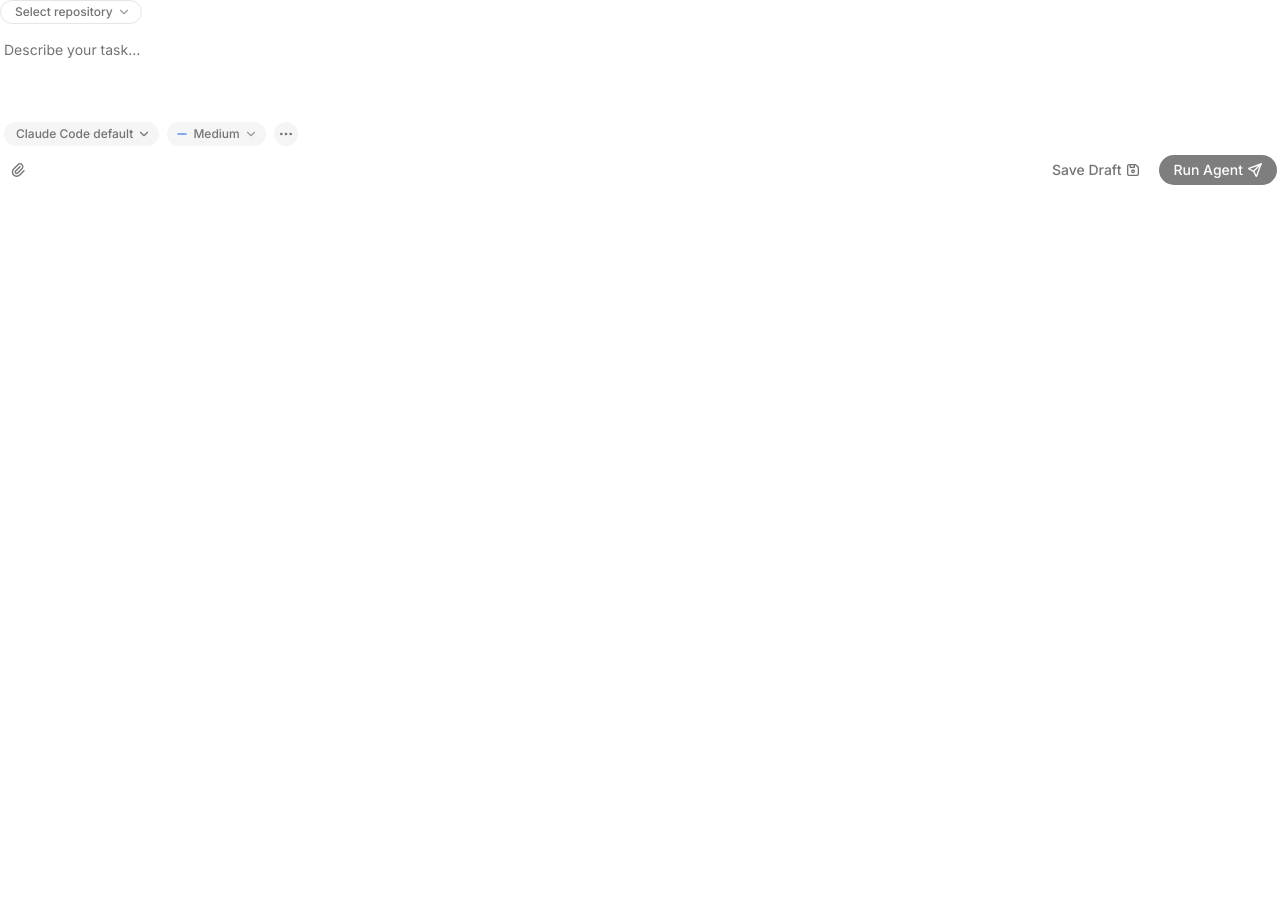
Test case: IssueCreateForm › filters the label picker by search
The width and height of the screenshot is (1280, 900).
Click the button named "More options": x=286, y=134 [274, 122, 298, 146]
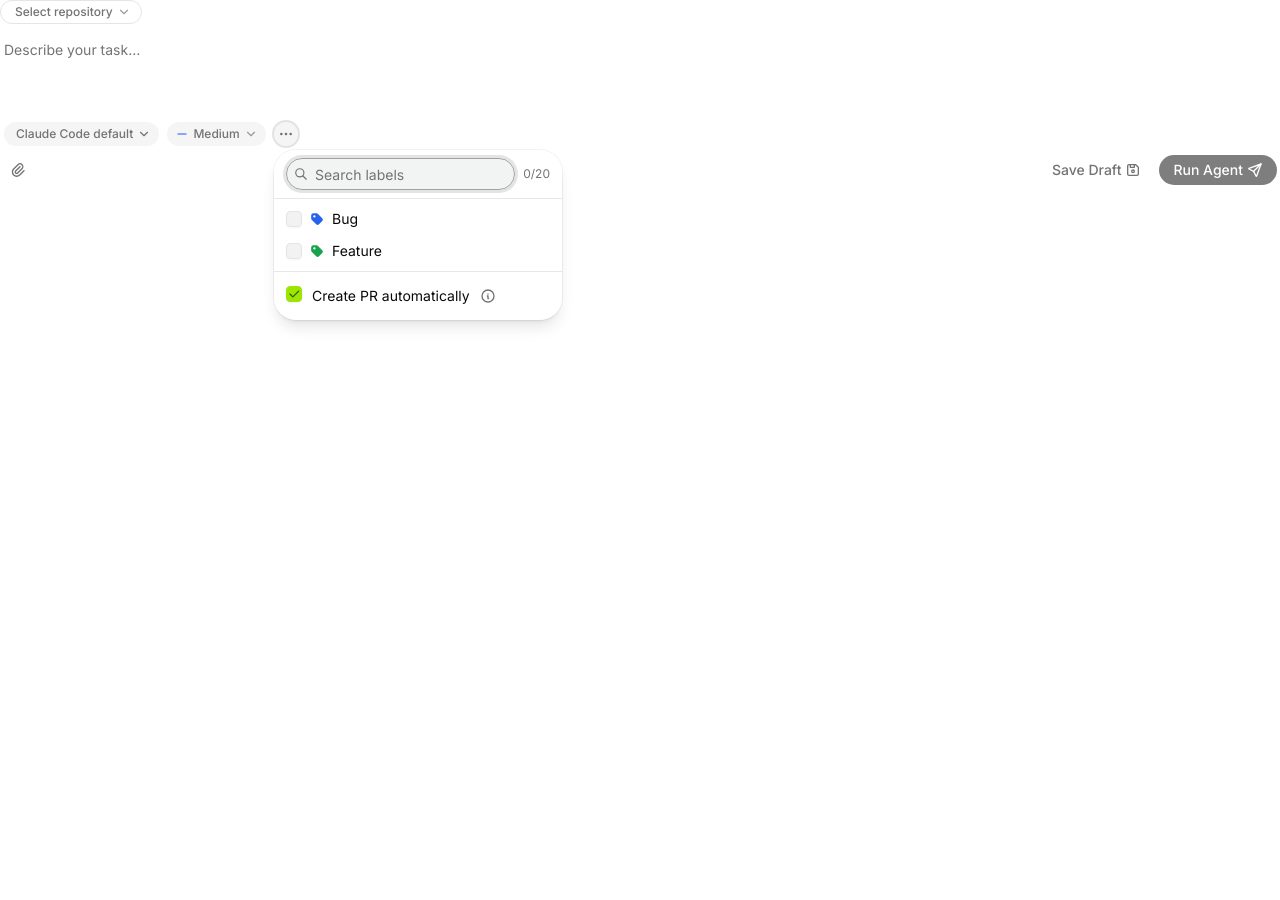
Check: the checkbox named "Bug" next to "Bug" is shown, box [286, 211, 302, 227]
Check: the checkbox named "Feature" next to "Feature" is shown, box [286, 243, 302, 259]
In the field with placeholder "Search labels": x=401, y=174 [286, 158, 515, 190], type "bu"
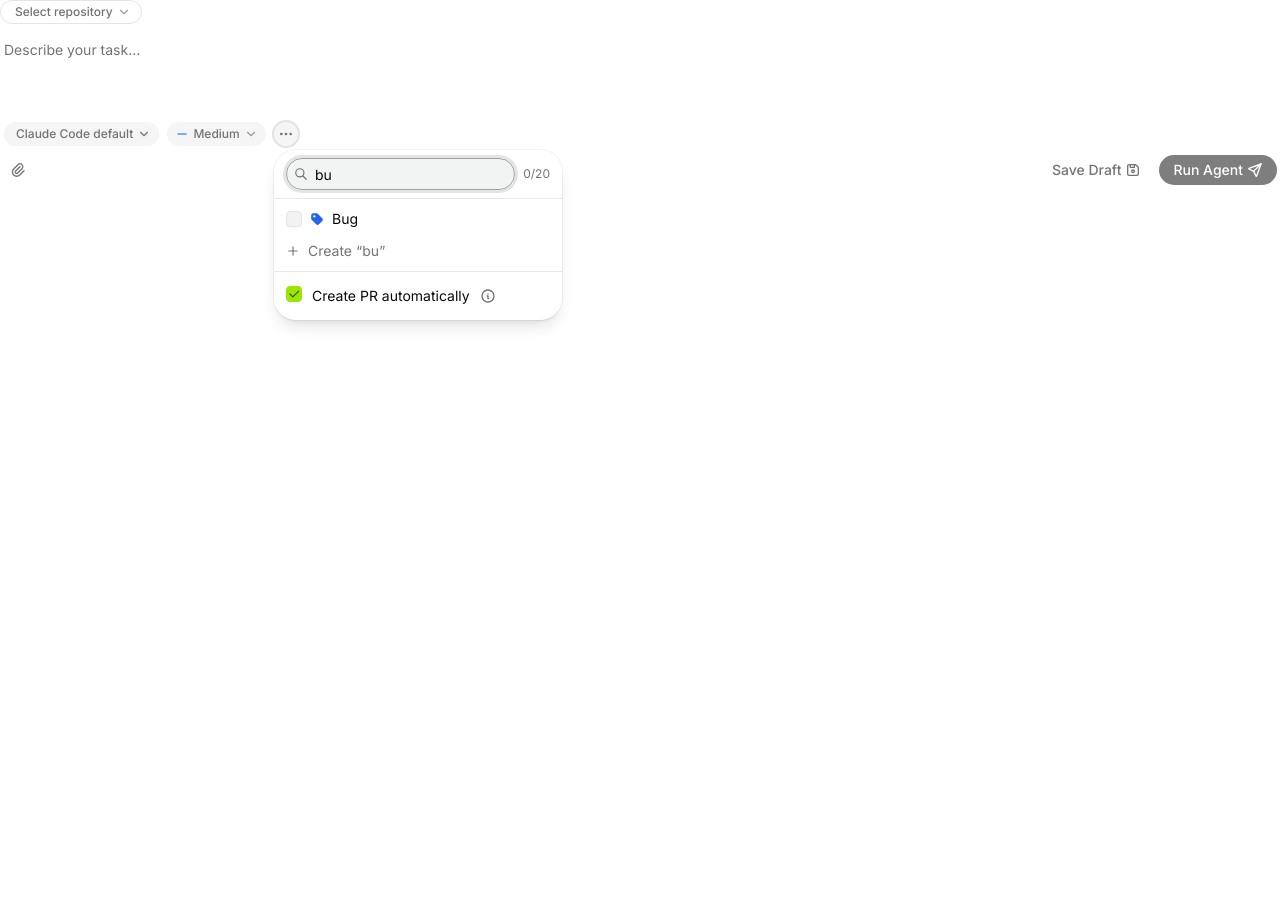
Check: the checkbox named "Bug" next to "Bug" is shown, box [286, 211, 302, 227]
Check: the text "Feature" is gone
